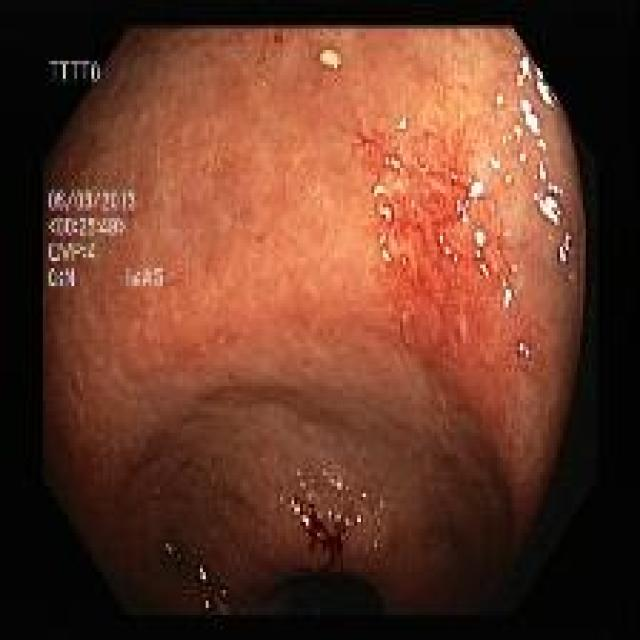ulcerative-colitis: (44, 30, 584, 614)
